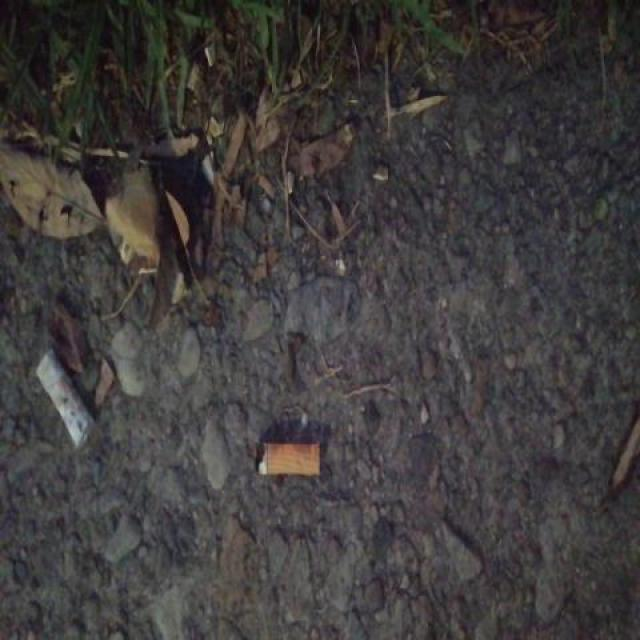non-organic waste: (31, 344, 101, 456), (249, 436, 324, 481)
